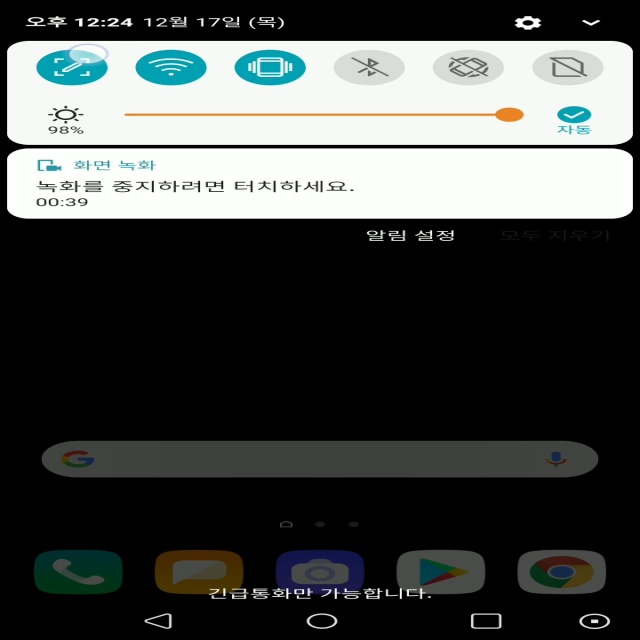Cursor: (66, 43, 111, 65)
